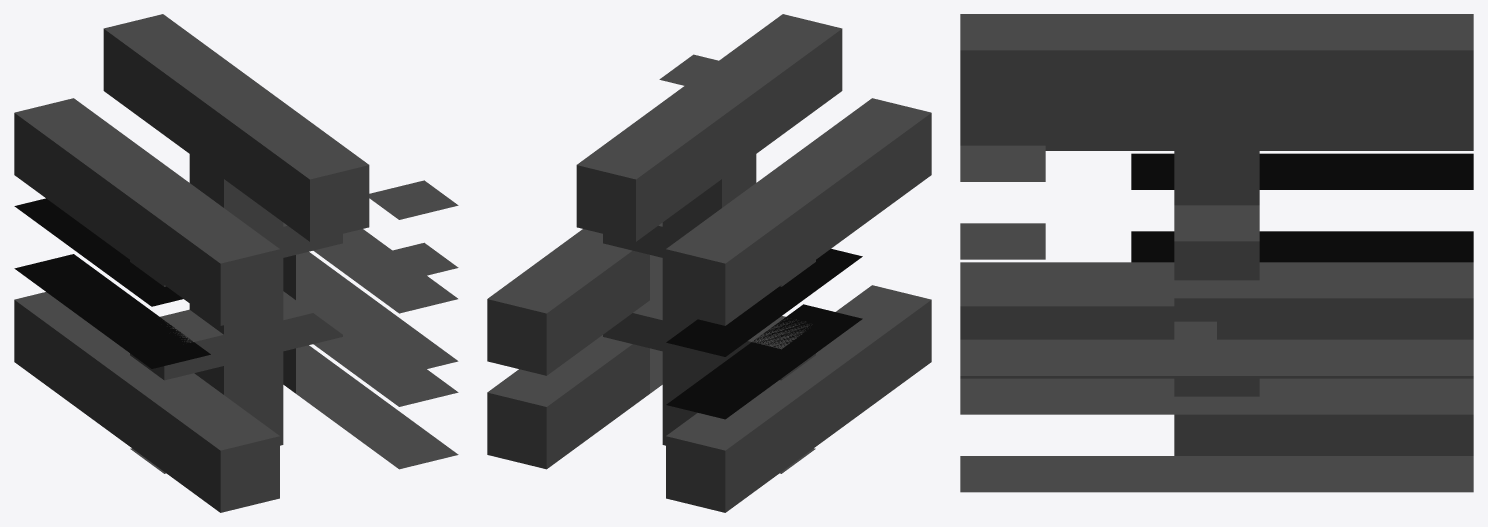
The model's file is light_missile_rack.obj.
3 views of the same model, side by side, from view 1: azimuth 30°, elevation 25°; view 2: azimuth 150°, elevation 25°; view 3: azimuth 270°, elevation 25° (orthographic). The views are drawn at different scales.
Parts seen in each view (by area): view 1: cube13, cube11, cube7, cube10, cube9, cube8, cube, cube12, cube5, cube3, cube2; view 2: cube13, cube11, cube7, cube10, cube8, cube9, cube, cube3, cube5, cube2, cube12; view 3: cube13, cube8, cube10, cube9, cube7, cube11, cube, cube2, cube12, cube3.
Boxes of the visible parts, x1,y1,x2,y2 form: cube13: (103, 14, 369, 241); cube11: (14, 98, 279, 325); cube7: (14, 292, 279, 512); cube10: (283, 229, 458, 375); cube9: (14, 198, 210, 368); cube8: (283, 335, 458, 469); cube: (189, 154, 283, 445); cube12: (365, 180, 458, 282); cube5: (130, 309, 223, 380); cube3: (283, 280, 342, 351); cube2: (283, 222, 342, 257); cube13: (576, 14, 842, 241); cube11: (666, 98, 931, 325); cube7: (666, 285, 931, 512); cube10: (487, 229, 662, 375); cube8: (487, 335, 662, 469); cube9: (666, 248, 862, 419); cube: (662, 154, 756, 445); cube3: (603, 284, 662, 351); cube5: (722, 316, 815, 380); cube2: (603, 222, 662, 257); cube12: (659, 54, 718, 85); cube13: (960, 14, 1473, 127); cube8: (960, 378, 1473, 492); cube10: (960, 262, 1473, 375); cube9: (1131, 153, 1473, 262); cube7: (960, 298, 1473, 378); cube11: (960, 127, 1473, 150); cube: (1174, 127, 1259, 455); cube2: (1174, 205, 1259, 280); cube12: (960, 145, 1045, 259); cube3: (1174, 321, 1259, 396).
Size of the model in its own units: 0.5 by 0.6875 by 0.75.
